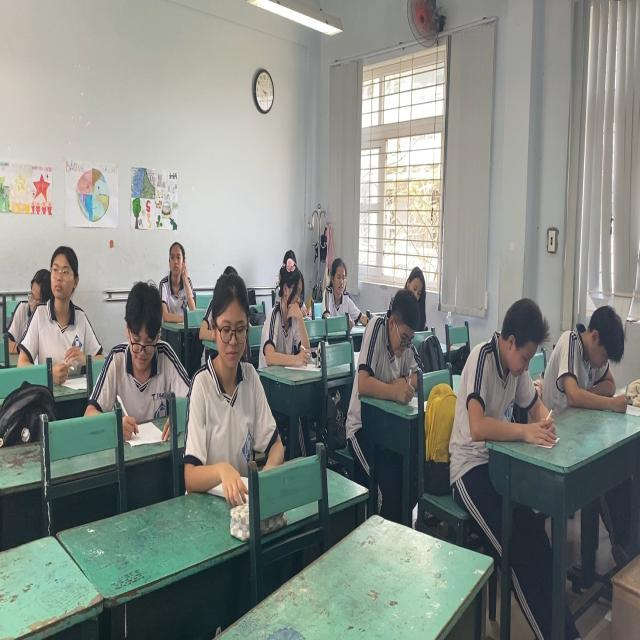not_cheating: (194, 271, 275, 454), (474, 296, 552, 440), (556, 284, 626, 409), (104, 281, 168, 402), (30, 242, 86, 377), (258, 240, 312, 371), (369, 291, 425, 402), (324, 261, 361, 315), (159, 236, 188, 294)
